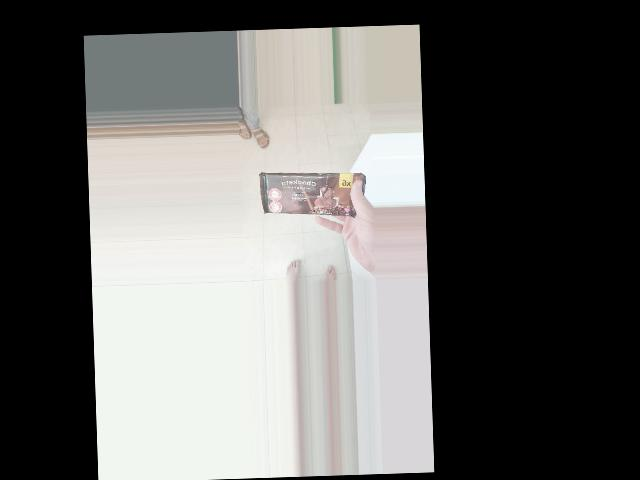chocolate: (248, 123, 313, 233)
